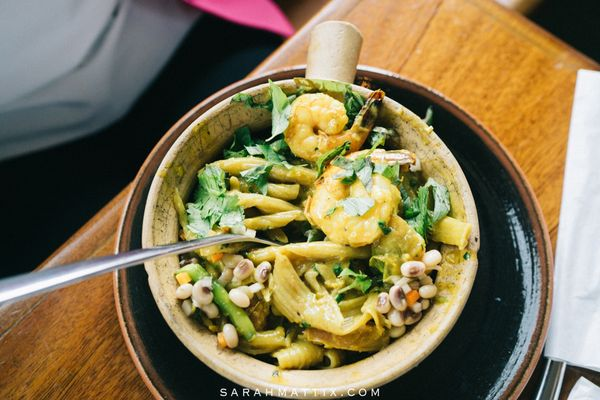burger: (0, 232, 275, 309)
salad: (1, 234, 280, 313)
sushi: (8, 40, 515, 393), (141, 61, 483, 393)
